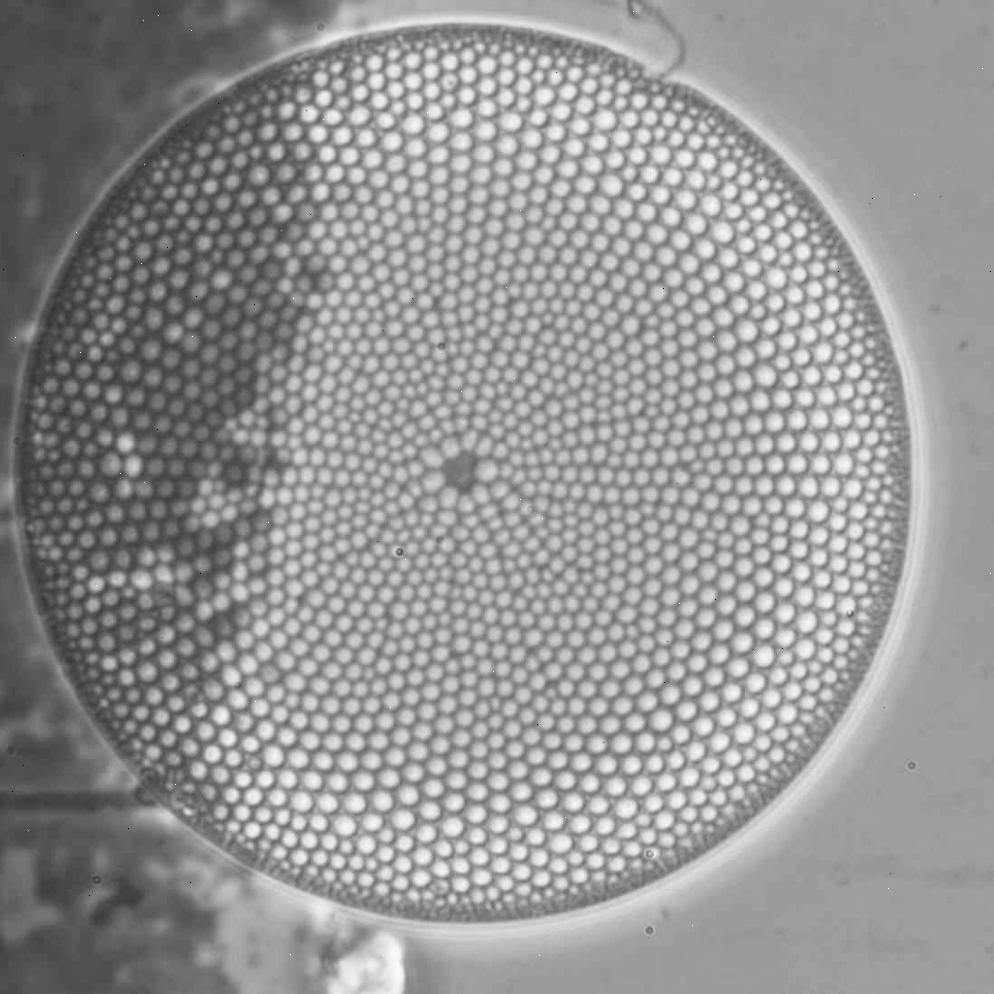coscinodiscus_oculus_iridis: (10, 24, 915, 927)
